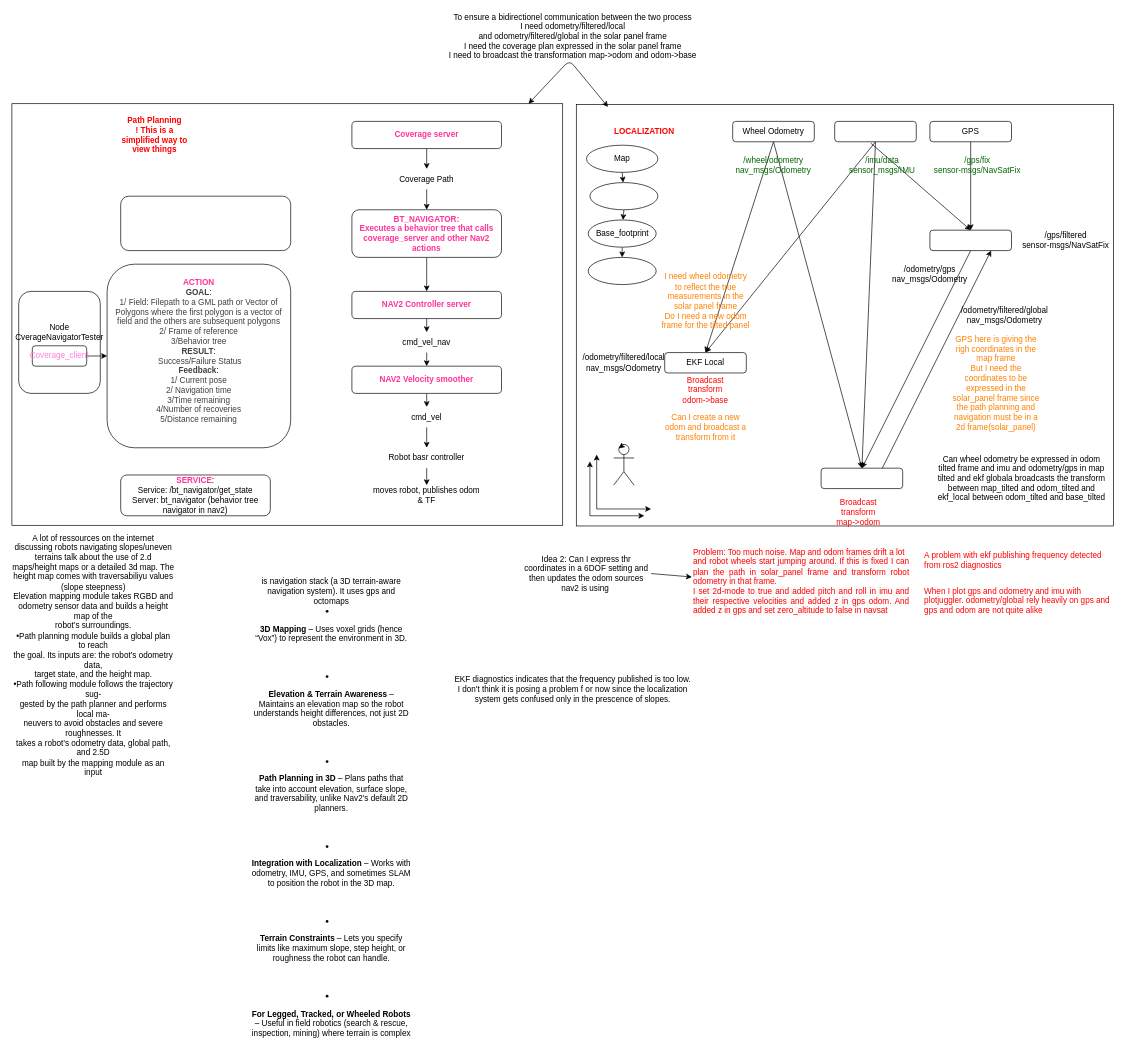
This 1125x1058 diagram has some shape labels left out. Here are the shapes that lost their labels. From the top down, the centre of each, then its label:
the point at 875,131: IMU
the point at 623,196: Odom
the point at 205,223: navigate_complete_coverage opennav_coverage_msgs/action/NavigateCompleteCoverage
the point at 970,240: navsat_transform
the point at 622,271: Base_link
the point at 623,464: Actor
the point at 861,478: EKF Global
